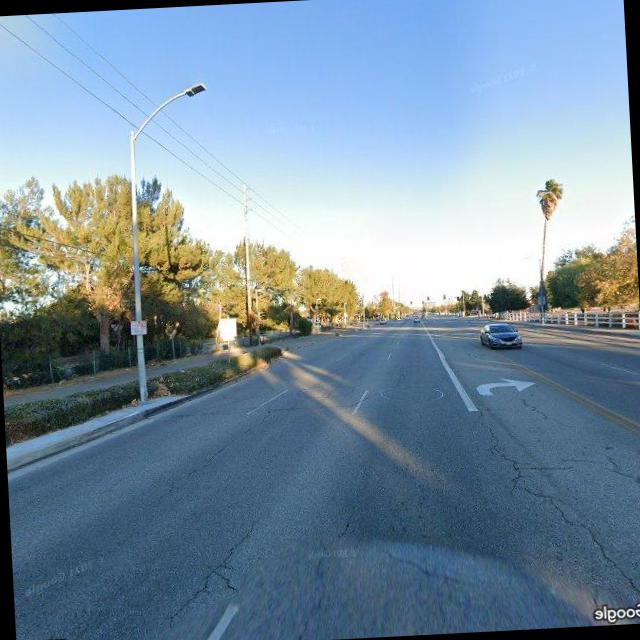crack: (475, 400, 640, 613), (153, 408, 280, 500), (162, 516, 268, 622)
